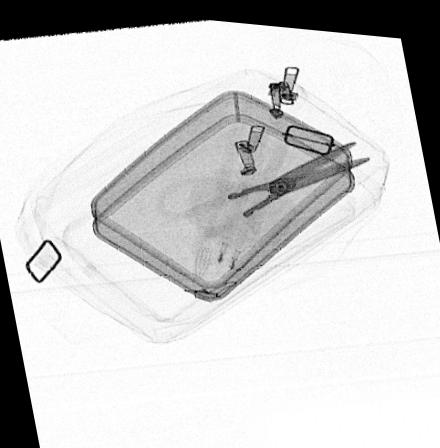Scissors: (155, 133, 370, 262)
